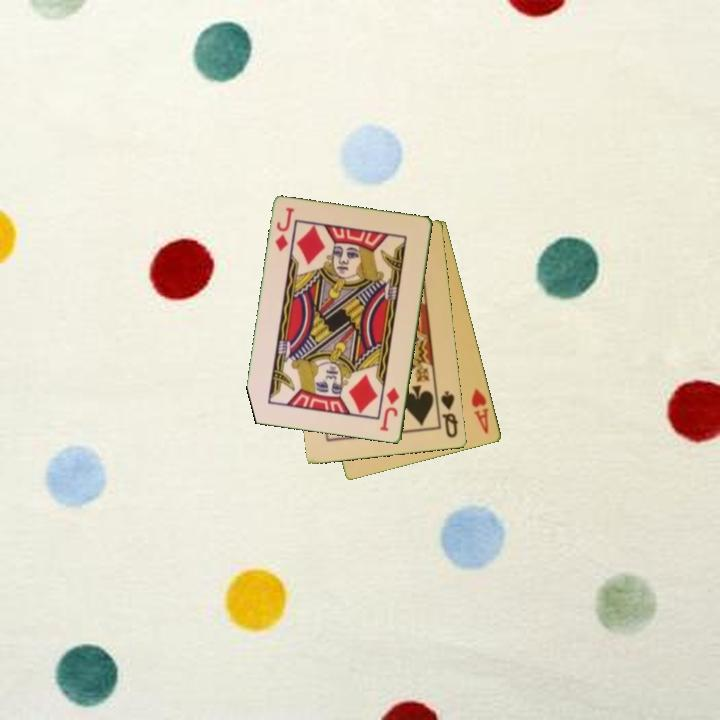Ah: (468, 385, 492, 437)
Jd: (377, 384, 403, 434), (272, 204, 297, 254)
Qs: (438, 387, 461, 441)
